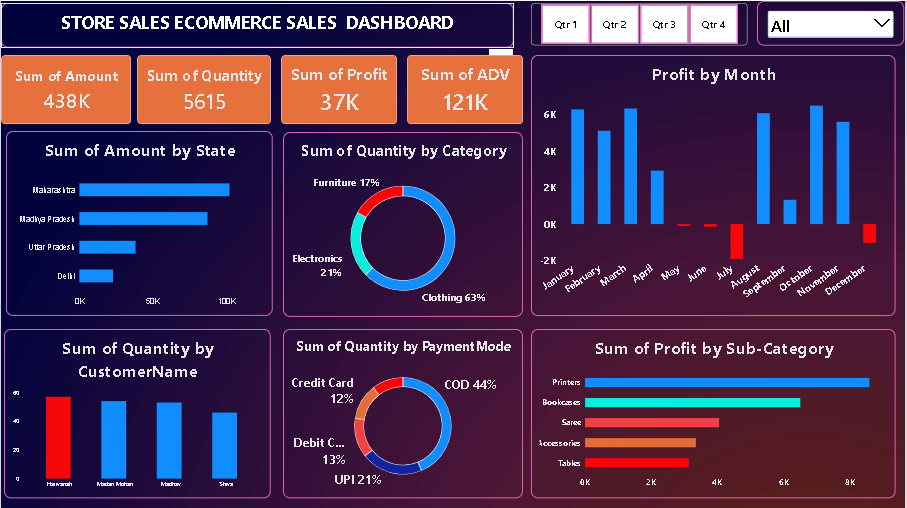

Layout of this report page (visuals, bound fields, positions):
{"tool":"powerbi","page":{"name":"Page 1","canvas":[1920,1080],"ordinal":0},"visuals":[{"type":"textbox","box":[10,0,280,280],"z":0},{"type":"textbox","box":[0,5,1090,95],"z":1000},{"type":"columnChart","title":"Profit by Month","fields":{"Category":["Orders.Order Date.Variation.Date Hierarchy.Month"],"Y":["Sum(Details.Profit)"]},"box":[1127.5,115,775,555],"z":2000},{"type":"barChart","fields":{"Category":["Details.Sub-Category"],"Y":["Sum(Details.Profit)"]},"box":[1127.5,697.5,775,360],"z":3000},{"type":"donutChart","fields":{"Category":["Details.Category"],"Y":["Sum(Details.Quantity)"]},"box":[600,277.5,510,392.5],"z":4000},{"type":"donutChart","fields":{"Category":["Details.PaymentMode"],"Y":["Sum(Details.Quantity)"]},"box":[600,697.5,510,360],"z":5000},{"type":"cardVisual","fields":{"Data":["Sum(Details.Amount)"]},"box":[0,115,277.5,147.5],"z":6000},{"type":"cardVisual","fields":{"Data":["Sum(Details.Quantity)"]},"box":[290,115,285,147.5],"z":7000},{"type":"cardVisual","fields":{"Data":["Sum(Details.Profit)"]},"box":[595,115,247.5,147.5],"z":8000},{"type":"cardVisual","fields":{"Data":["Sum(Details.ADV)"]},"box":[862.5,115,247.5,147.5],"z":9000},{"type":"barChart","fields":{"Category":["Orders.State"],"Y":["Sum(Details.Amount)"]},"box":[10,276.7,566.7,393.3],"z":10000},{"type":"columnChart","fields":{"Category":["Orders.CustomerName"],"Y":["Sum(Details.Quantity)"]},"box":[6.7,696.7,566.7,360],"z":11000},{"type":"slicer","fields":{"Values":["Orders.Order Date.Variation.Date Hierarchy.Quarter"]},"box":[1127.5,5,460,90],"z":12000},{"type":"slicer","fields":{"Values":["Orders.State"]},"box":[1607.5,0,312.5,95],"z":12001}]}

Visuals, with their boxes in screenshot pixels (x1, y1, x2, y2), scaled from the page's 1920x1080 canvas onto the 907x508 screenshot:
textbox: region(5, 0, 137, 132)
textbox: region(0, 2, 515, 47)
"Profit by Month" columnChart: region(533, 54, 899, 315)
barChart - Details.Sub-Category x Sum(Details.Profit): region(533, 328, 899, 497)
donutChart - Details.Category x Sum(Details.Quantity): region(283, 131, 524, 315)
donutChart - Details.PaymentMode x Sum(Details.Quantity): region(283, 328, 524, 497)
cardVisual - Sum(Details.Amount): region(0, 54, 131, 123)
cardVisual - Sum(Details.Quantity): region(137, 54, 272, 123)
cardVisual - Sum(Details.Profit): region(281, 54, 398, 123)
cardVisual - Sum(Details.ADV): region(407, 54, 524, 123)
barChart - Orders.State x Sum(Details.Amount): region(5, 130, 272, 315)
columnChart - Orders.CustomerName x Sum(Details.Quantity): region(3, 328, 271, 497)
slicer - Orders.Order Date.Variation.Date Hierarchy.Quarter: region(533, 2, 750, 45)
slicer - Orders.State: region(759, 0, 906, 45)
